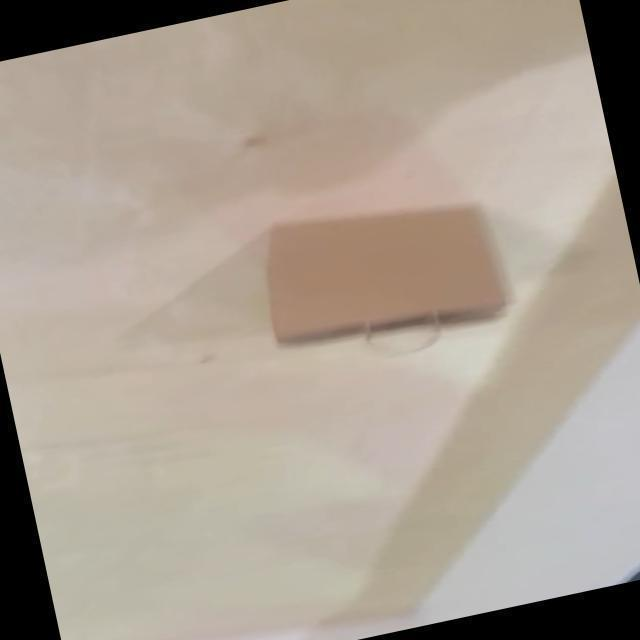Kardus: (1, 0, 638, 638), (265, 200, 510, 346)
